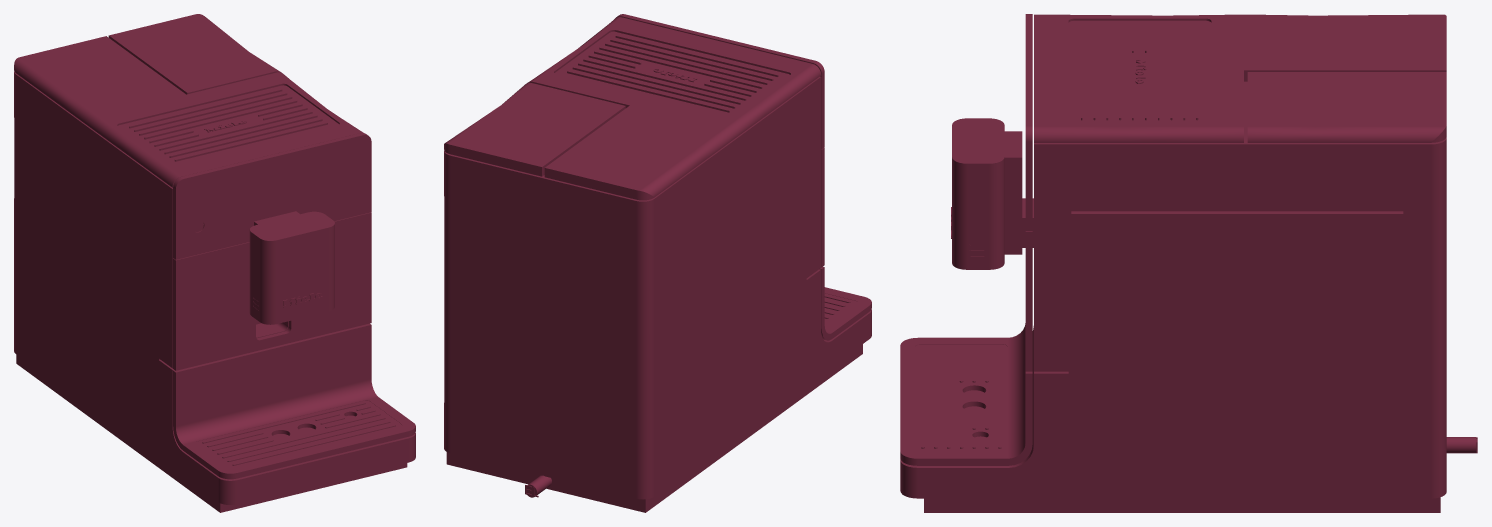
The model's file is CM5310_brombaerrod_realsize.glb.
The picture shows the model from 3 angles, left to right: view 1: azimuth 30°, elevation 25°; view 2: azimuth 150°, elevation 25°; view 3: azimuth 270°, elevation 25°; orthographic projection. The views are drawn at different scales.
Parts seen in each view (by area): view 1: 11541590_NER_CM5310_BRRT 29531005_NER_11541590_CM5310_B_4c54; view 2: 11541590_NER_CM5310_BRRT 29531005_NER_11541590_CM5310_B_4c54; view 3: 11541590_NER_CM5310_BRRT 29531005_NER_11541590_CM5310_B_4c54.
Part boxes in pixels (bbox=[...]): 11541590_NER_CM5310_BRRT 29531005_NER_11541590_CM5310_B_4c54: bbox=[14, 14, 415, 512]; 11541590_NER_CM5310_BRRT 29531005_NER_11541590_CM5310_B_4c54: bbox=[444, 14, 871, 512]; 11541590_NER_CM5310_BRRT 29531005_NER_11541590_CM5310_B_4c54: bbox=[900, 14, 1477, 512].
Size of the model in its own units: 0.241 by 0.3605 by 0.486.
